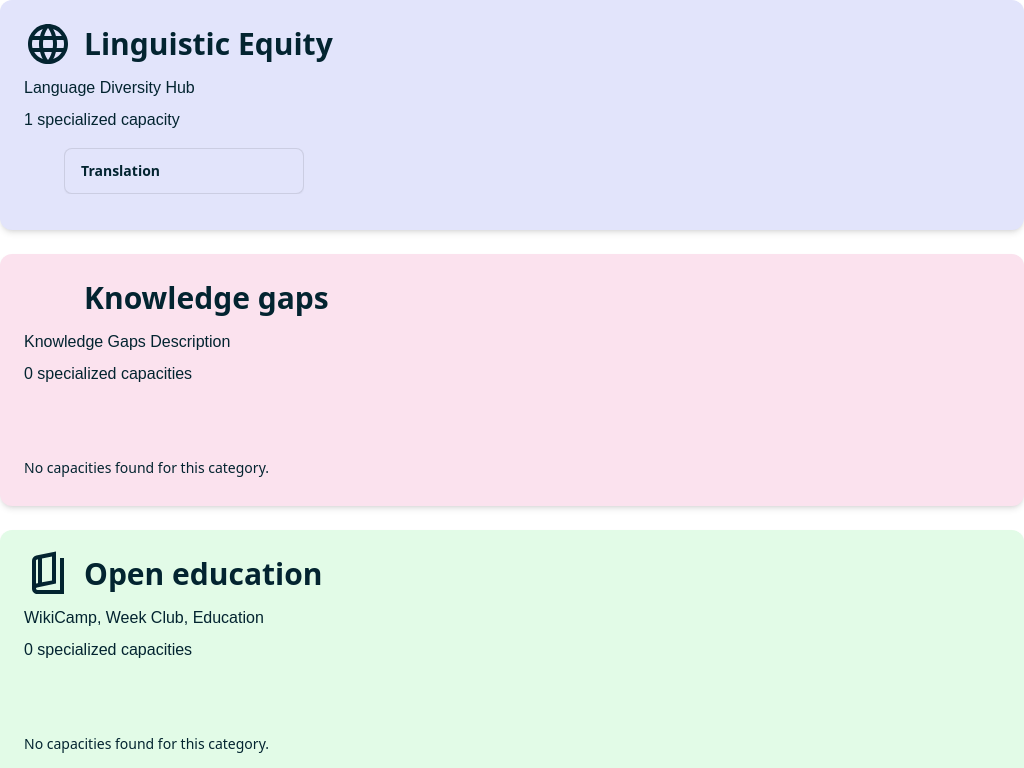
Test case: CapacityCategories › CapacityInfoPanel › displays the capacity description
Click the button "Translation" at (184, 171), box [64, 148, 304, 194]
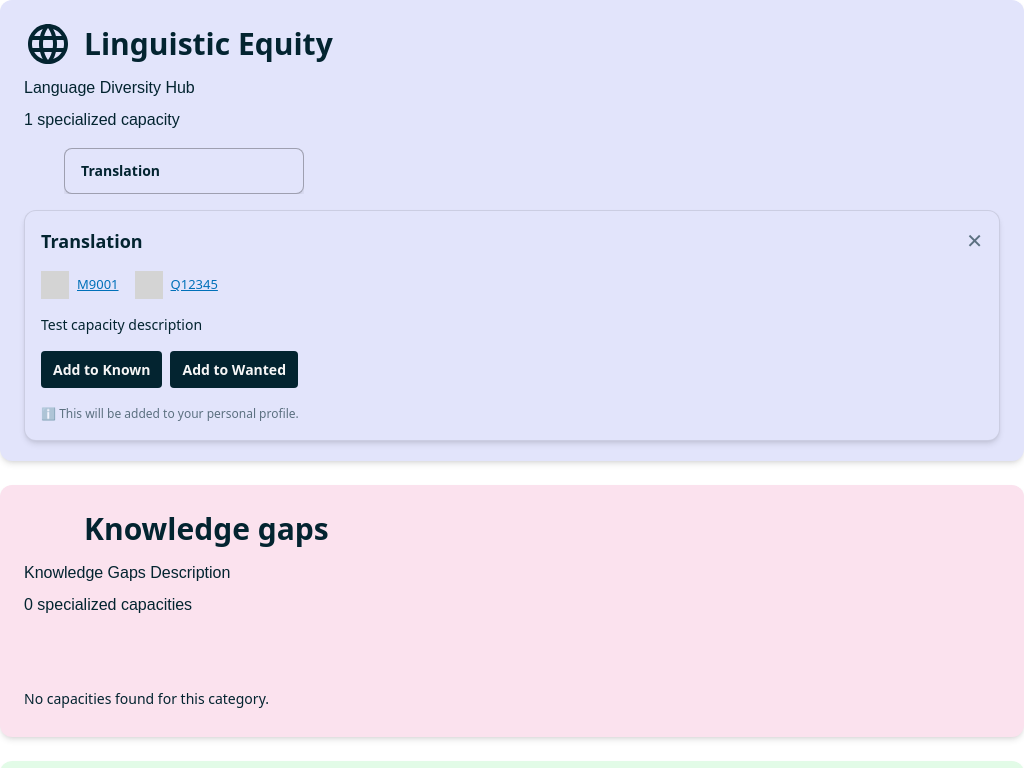
Expected: the text "Test capacity description" is shown, [41, 315, 202, 334]
